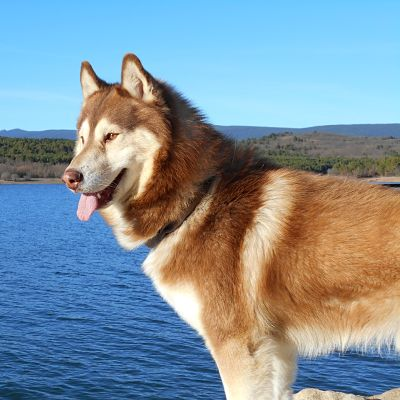husky: (46, 26, 395, 391)
